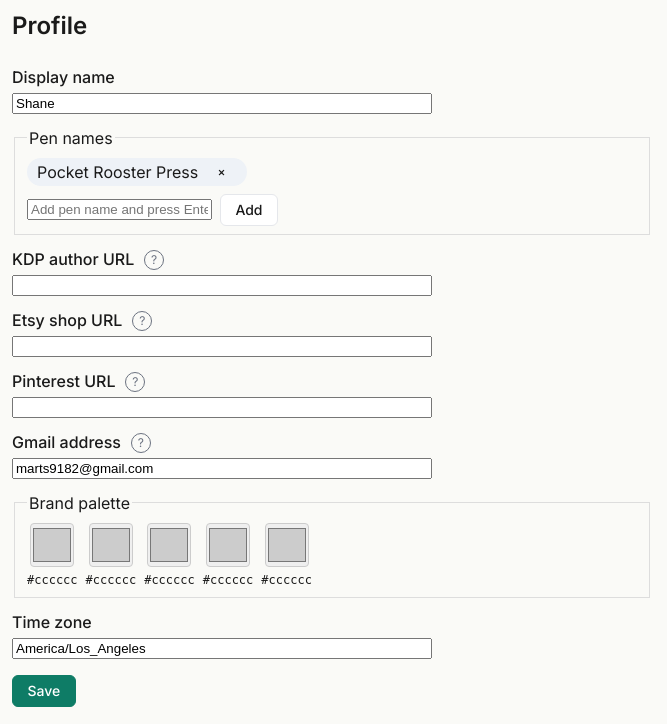
it: Profile › lets the user remove a pen name chip
Expected: the field labelled "Display name" is shown, [12,93,432,114]
Click the button named "Remove Pocket Rooster Press".
click(222, 172)  # box [206,160,237,184]
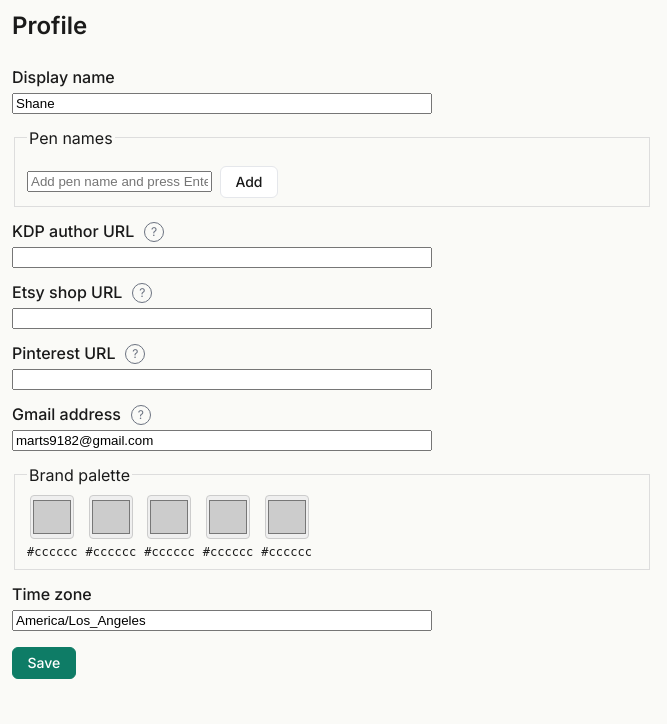
Now the text "Pocket Rooster Press" is gone
